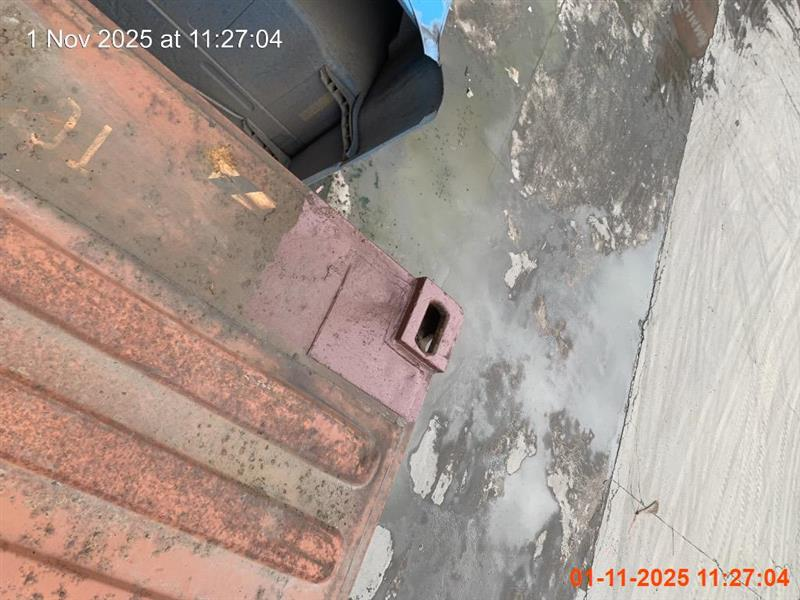broken: (1, 1, 465, 599)
